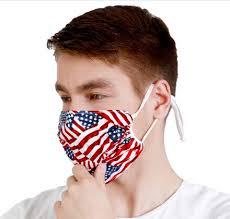OK: (60, 79, 150, 185)
